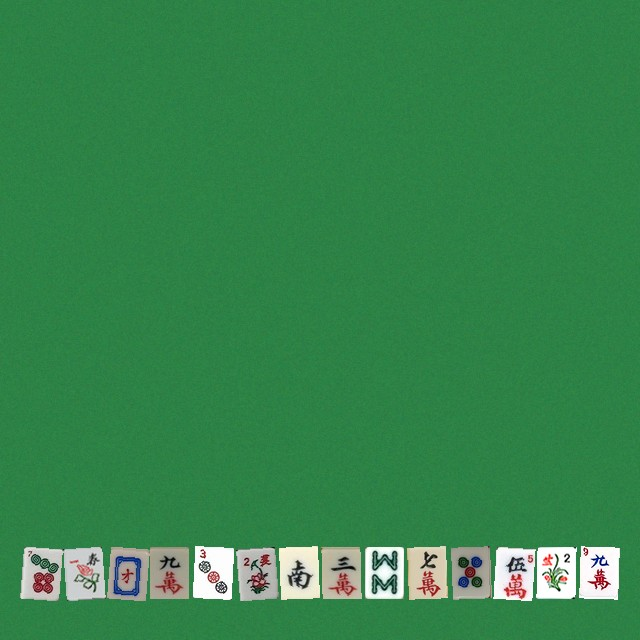tile: (20, 546, 59, 598), (63, 546, 102, 598), (106, 546, 145, 598), (149, 546, 188, 598), (192, 546, 231, 598), (235, 546, 274, 598), (278, 546, 317, 598), (321, 546, 360, 598), (364, 546, 403, 598), (407, 546, 446, 598), (450, 546, 489, 598), (493, 546, 532, 598), (536, 546, 575, 598), (579, 546, 618, 598)
